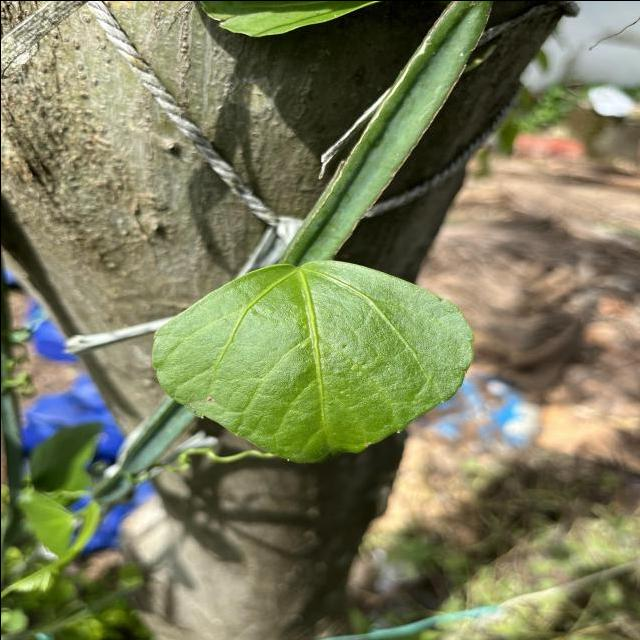Cissus quadrangularis: (146, 256, 480, 467)
